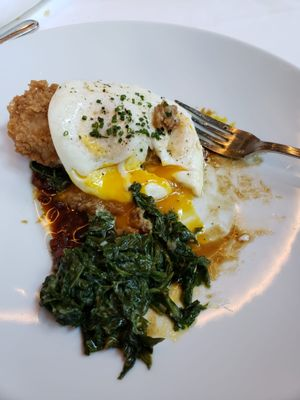curry: (38, 205, 214, 379)
